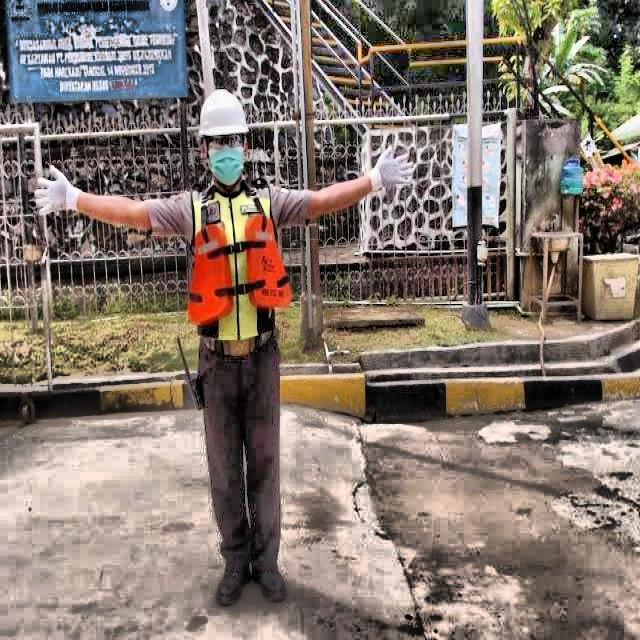safety_helmet: (196, 87, 249, 139)
safety_jacket: (188, 184, 291, 352)
